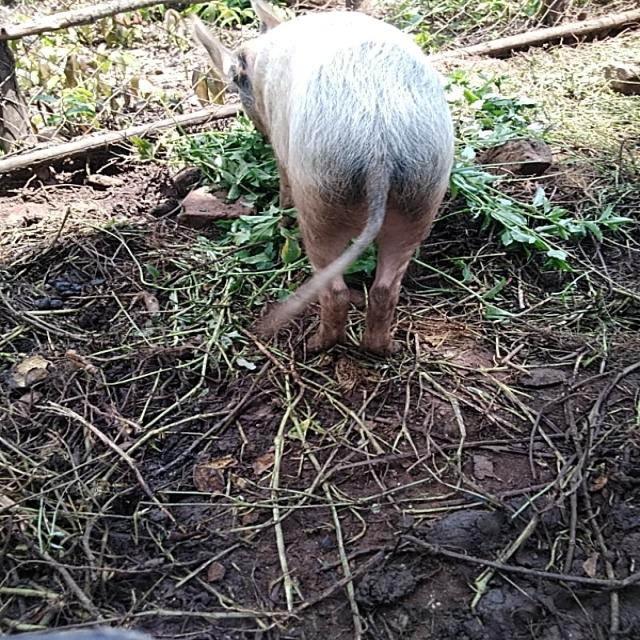pig: (194, 0, 501, 380)
